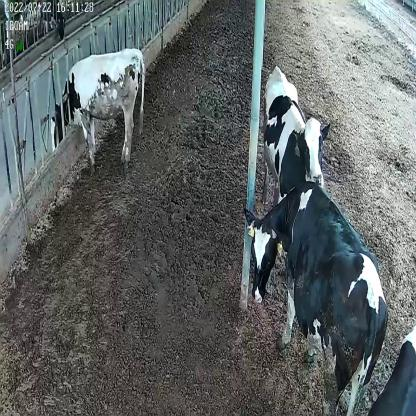cow: (242, 182, 388, 416), (50, 47, 146, 171), (262, 63, 332, 212)
